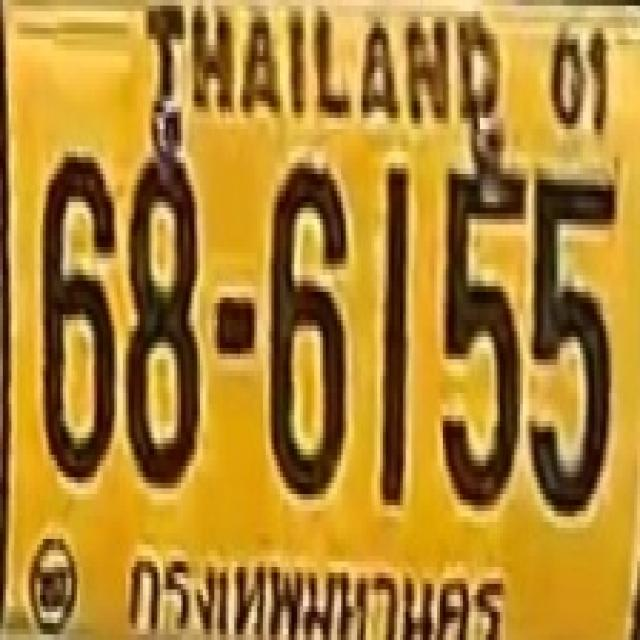1: (380, 162, 406, 500)
5: (527, 166, 616, 514), (440, 149, 526, 502)
6: (268, 160, 343, 491), (41, 152, 113, 477)
8: (124, 140, 196, 483)
BKK: (125, 529, 518, 640)
